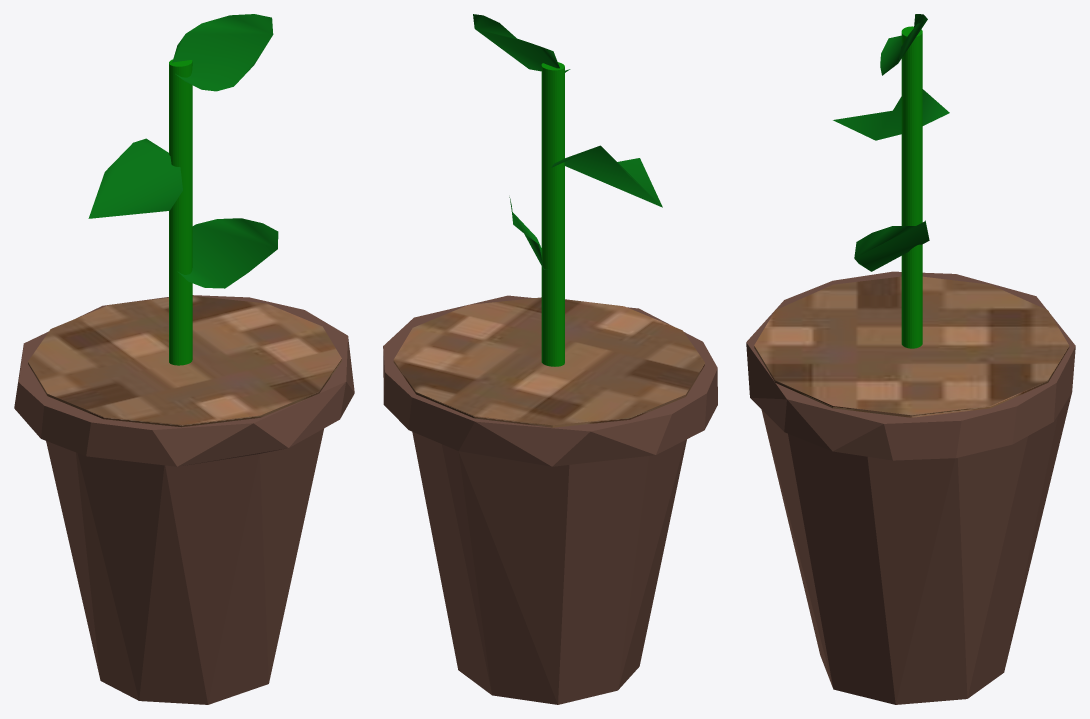
File: betterthantomsplant2.fbx
3 renders of one model, left to right at view 1: azimuth 30°, elevation 25°; view 2: azimuth 150°, elevation 25°; view 3: azimuth 270°, elevation 25°, orthographic. The views are drawn at different scales.
Parts seen in each view (by area): view 1: Cylinder, Cylinder.002, Cylinder.001, DangoHappa.004, DangoHappa.001, DangoHappa.006; view 2: Cylinder, Cylinder.002, Cylinder.001, DangoHappa.001, DangoHappa.004; view 3: Cylinder, Cylinder.002, Cylinder.001, DangoHappa.006, DangoHappa.001, DangoHappa.004.
Boxes of the visible parts, x1,y1,x2,y2 form: Cylinder: [14, 295, 354, 704]; Cylinder.002: [28, 296, 341, 427]; Cylinder.001: [169, 59, 192, 365]; DangoHappa.004: [172, 14, 273, 91]; DangoHappa.001: [88, 138, 182, 218]; DangoHappa.006: [177, 218, 278, 288]; Cylinder: [383, 295, 717, 704]; Cylinder.002: [393, 297, 704, 427]; Cylinder.001: [541, 62, 564, 366]; DangoHappa.001: [551, 145, 662, 207]; DangoHappa.004: [473, 14, 570, 72]; Cylinder: [746, 271, 1075, 704]; Cylinder.002: [754, 276, 1069, 417]; Cylinder.001: [901, 26, 922, 348]; DangoHappa.006: [854, 220, 929, 271]; DangoHappa.001: [833, 89, 949, 140]; DangoHappa.004: [880, 14, 927, 75].
Size of the model in its own units: 234 by 476 by 213.
Materials: 6 (2 with a texture image).
